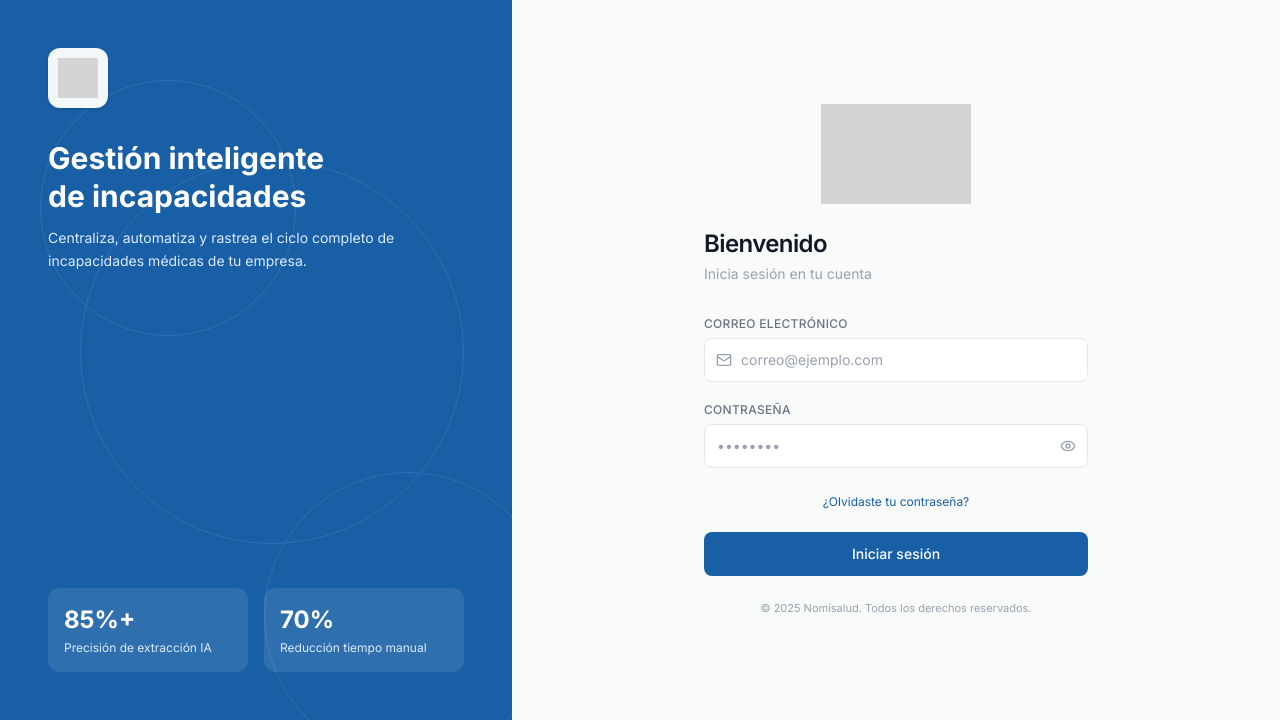
Scenario: LoginForm › estado de carga (loading) › muestra el texto de carga al enviar el formulario
Type "admin@nomisalud.com" into the field labelled "Correo electrónico". click: (896, 360)
box: x1=704 y1=338 x2=1088 y2=382
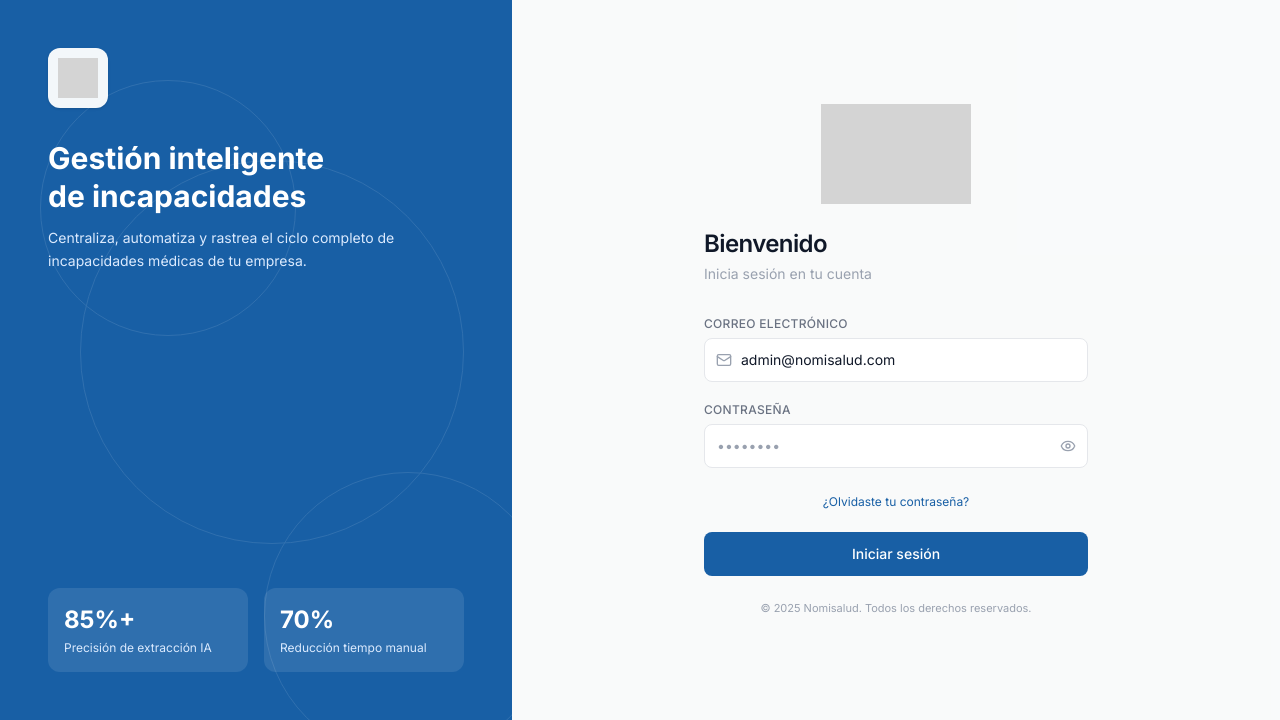
Type "Admin1234" into the password field labelled "Contraseña". click: (896, 446)
box: x1=704 y1=424 x2=1088 y2=468
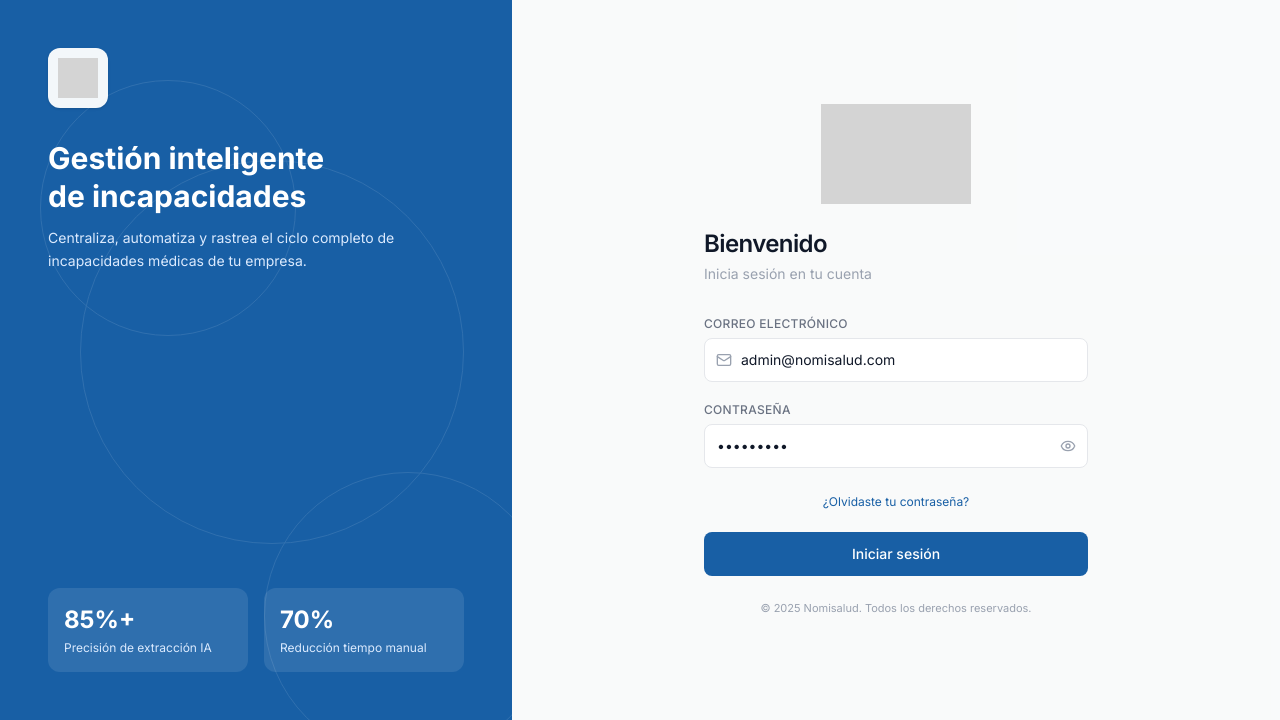
Click the button "Iniciar sesión". click: (896, 554)
box: x1=704 y1=532 x2=1088 y2=576
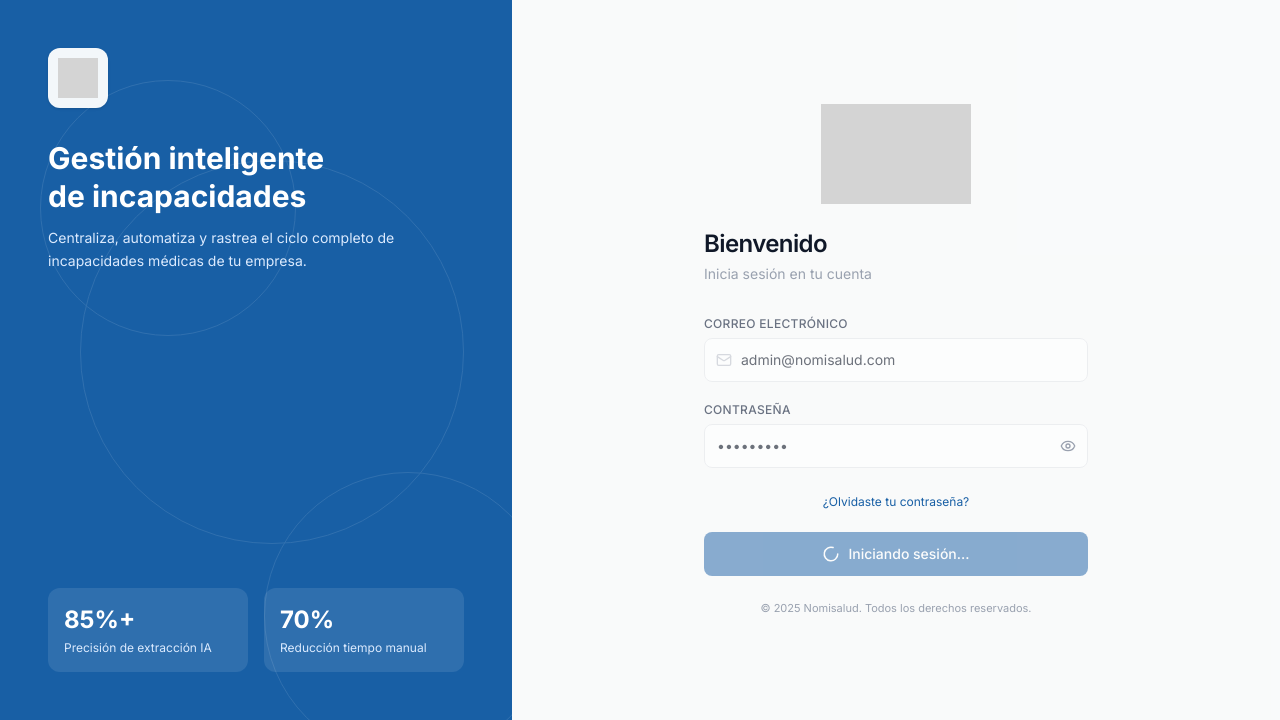
Expected: the button "Iniciando sesión..." is shown, x1=704 y1=532 x2=1088 y2=576
